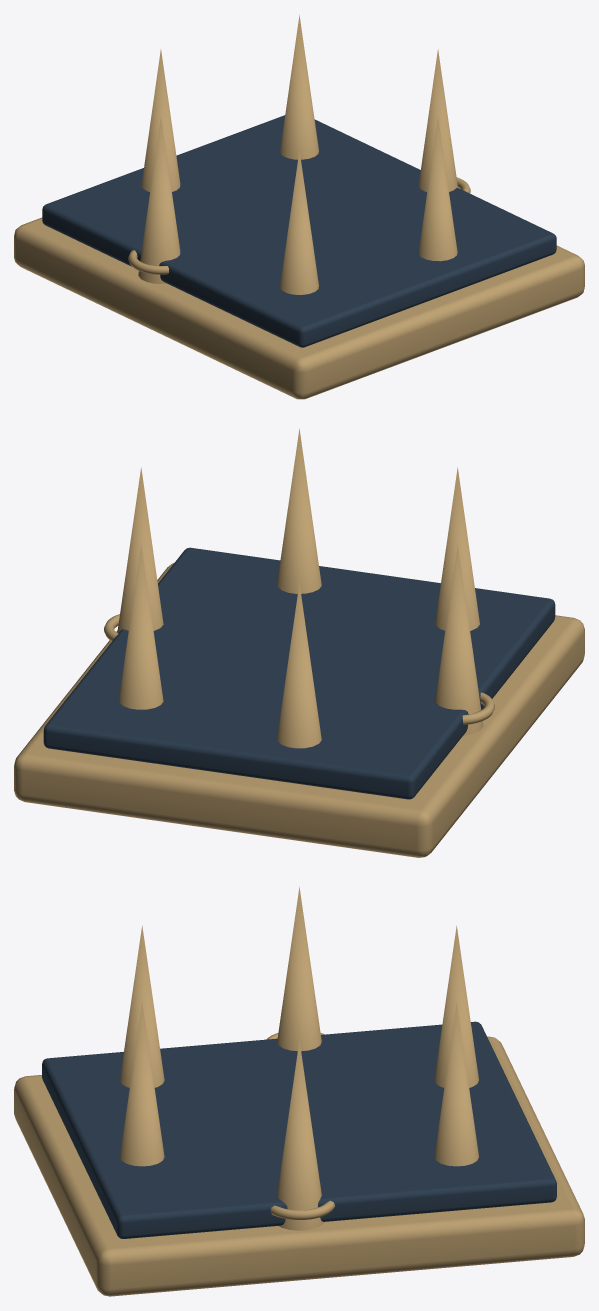
The model's file is SM_HC2_BeatCrown_003.fbx.
3 renders of one model, top to bottom at view 1: azimuth 30°, elevation 25°; view 2: azimuth 150°, elevation 25°; view 3: azimuth 270°, elevation 25°, orthographic. The views are drawn at different scales.
Visible parts, largest first — view 1: SM_HC2_BeatCrown_003; view 2: SM_HC2_BeatCrown_003; view 3: SM_HC2_BeatCrown_003.
Boxes of the visible parts, <box> form: SM_HC2_BeatCrown_003: <box>14,14,584,399</box>; SM_HC2_BeatCrown_003: <box>14,428,584,857</box>; SM_HC2_BeatCrown_003: <box>14,886,584,1296</box>.
Bounding box in the file's own units: 263 × 286 × 126.
